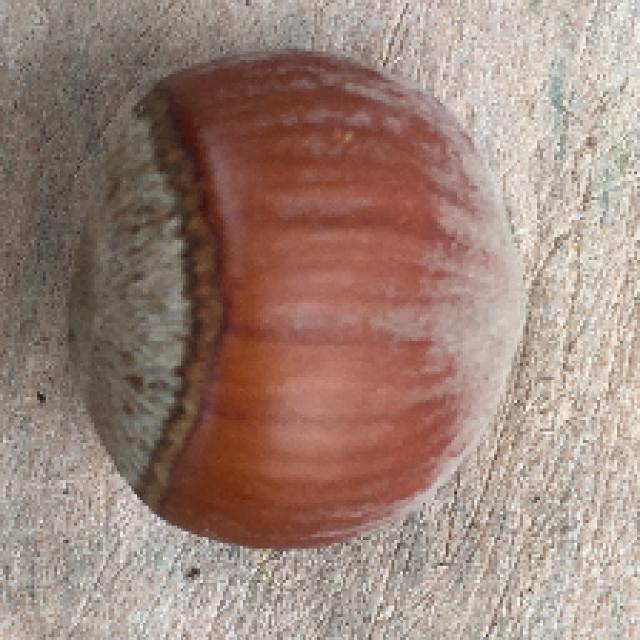qualityHazelnut: (55, 53, 539, 556)
